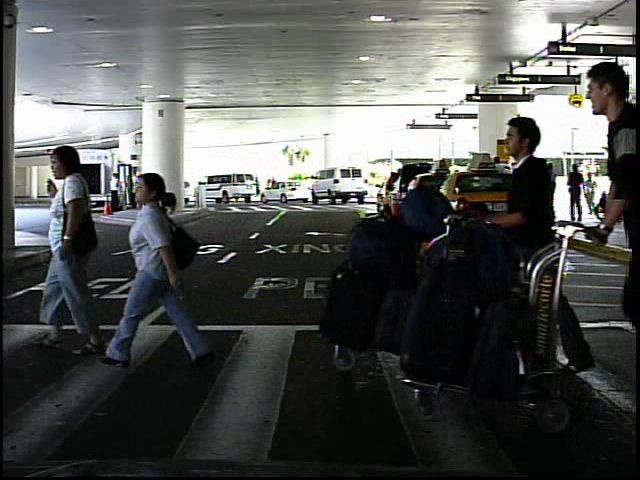person: (466, 101, 571, 394), (46, 137, 128, 358), (113, 158, 190, 382), (105, 172, 123, 222), (585, 173, 599, 216), (262, 178, 273, 204)
